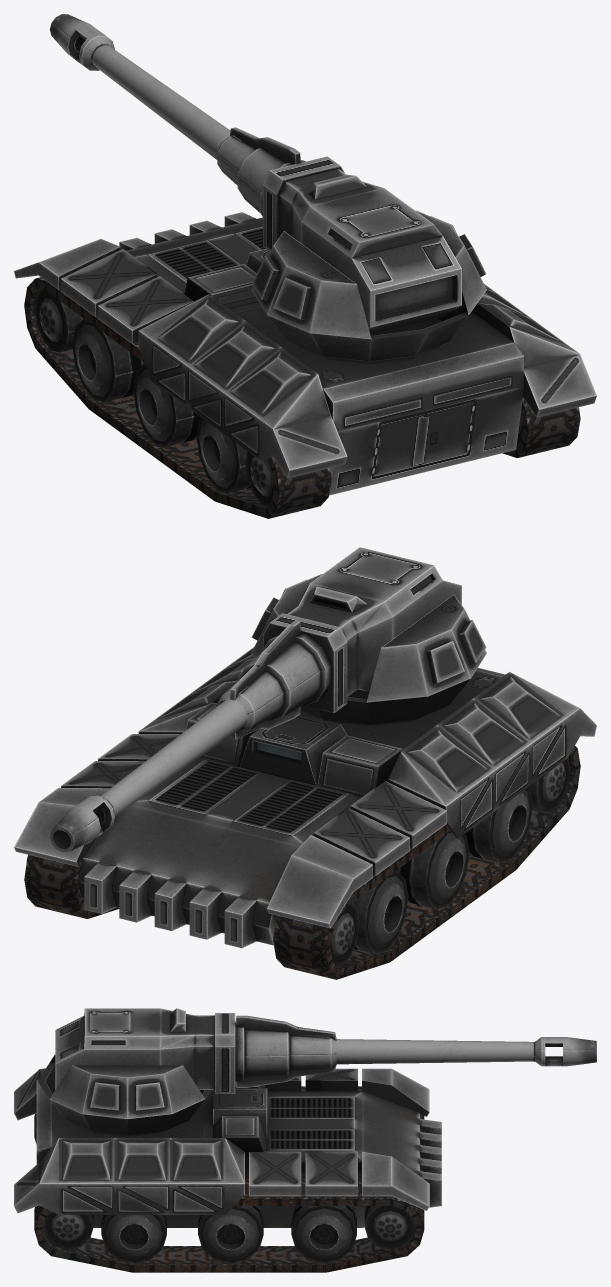
Rendered from Ballista.FBX.
3 views of the same model, one above another, from view 1: azimuth 30°, elevation 25°; view 2: azimuth 150°, elevation 25°; view 3: azimuth 270°, elevation 25° (orthographic). The views are drawn at different scales.
Visible parts, largest first — view 1: body, mantlet_1, turret, trackr, barrel_1, wheel2, wheel3, wheel4, trackl, wheel1, wheel5; view 2: body, mantlet_1, turret, trackr, barrel_1, wheel3, wheel2, wheel4, trackl, wheel5, wheel1; view 3: body, mantlet_1, turret, trackl, barrel_1, wheel7, wheel8, wheel9, wheel6, wheel10.
Boxes of the visible parts, <box> form: body: <box>14,212,596,495</box>; mantlet_1: <box>217,127,461,334</box>; turret: <box>251,210,486,361</box>; trackr: <box>24,277,331,518</box>; barrel_1: <box>49,14,230,159</box>; wheel2: <box>72,319,144,402</box>; wheel3: <box>133,363,200,446</box>; wheel4: <box>196,417,250,493</box>; trackl: <box>503,397,580,458</box>; wheel1: <box>34,289,83,352</box>; wheel5: <box>245,451,274,506</box>; body: <box>14,647,596,948</box>; mantlet_1: <box>217,547,461,739</box>; turret: <box>251,574,486,724</box>; trackr: <box>273,746,580,979</box>; barrel_1: <box>50,699,246,852</box>; wheel3: <box>396,831,469,909</box>; wheel2: <box>352,870,408,953</box>; wheel4: <box>465,787,532,862</box>; trackl: <box>24,855,119,918</box>; wheel5: <box>529,757,570,813</box>; wheel1: <box>330,903,359,966</box>; body: <box>14,1068,441,1227</box>; mantlet_1: <box>55,1008,336,1093</box>; turret: <box>37,1054,211,1135</box>; trackl: <box>34,1179,424,1272</box>; barrel_1: <box>336,1037,596,1066</box>; wheel7: <box>291,1206,356,1263</box>; wheel8: <box>198,1206,263,1263</box>; wheel9: <box>101,1215,166,1263</box>; wheel6: <box>364,1206,415,1249</box>; wheel10: <box>42,1212,93,1249</box>.
Bounding box in the file's own units: 35.93 × 28.67 × 75.38.
Materials: 1 (1 with a texture image).
